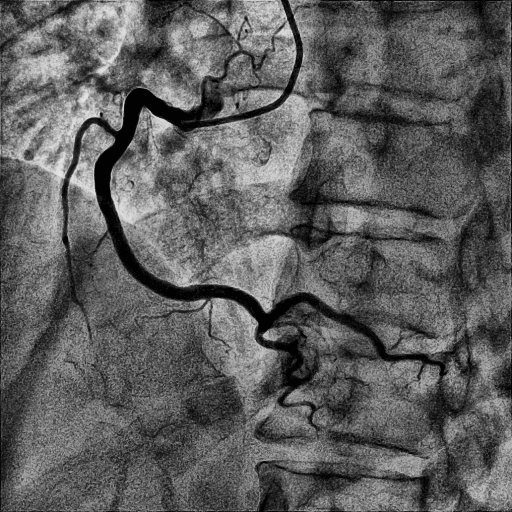pborca: (267, 293, 448, 376)
pda: (255, 325, 319, 433)
rca: (94, 88, 270, 328)
